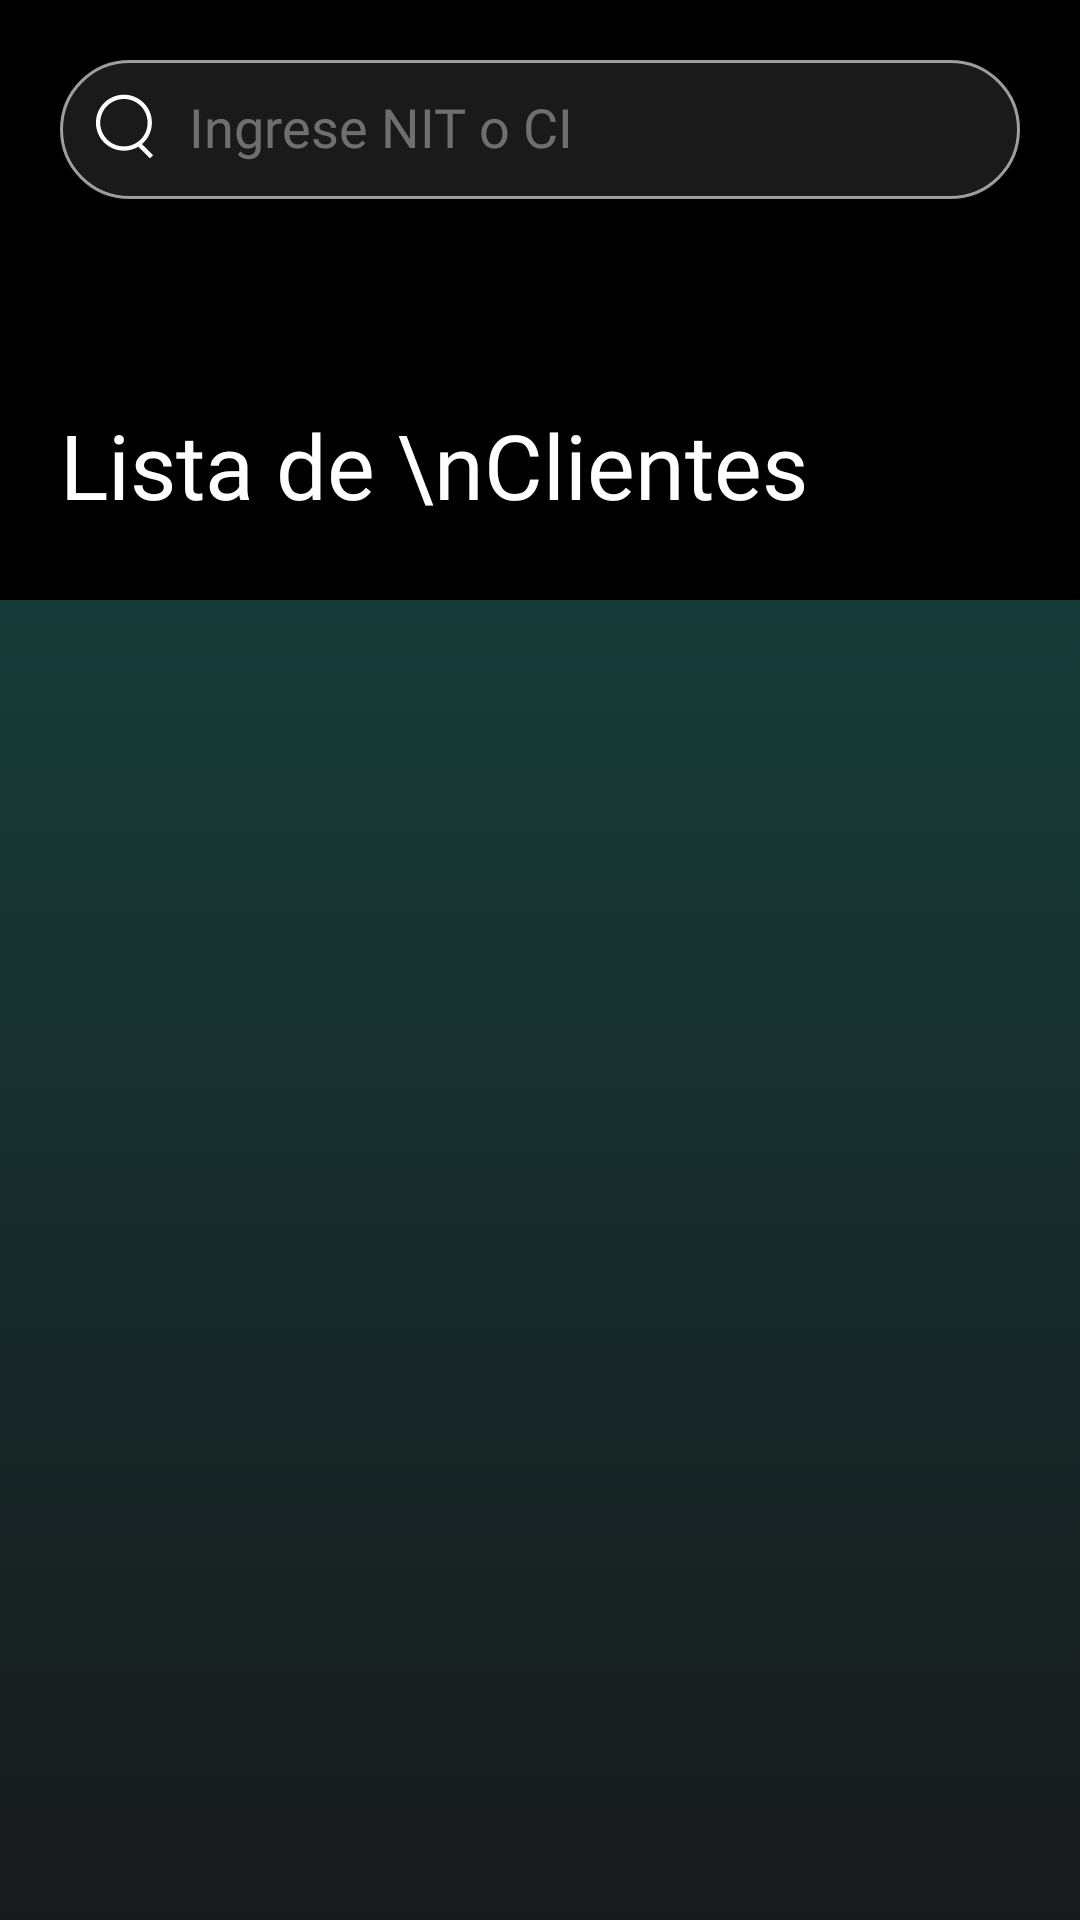

Screen size 1080x1920. Icon name, then its center in pixels as (x=x, y=y):
search: (x=124, y=126)
